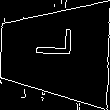L_W: (33, 36, 76, 69)
